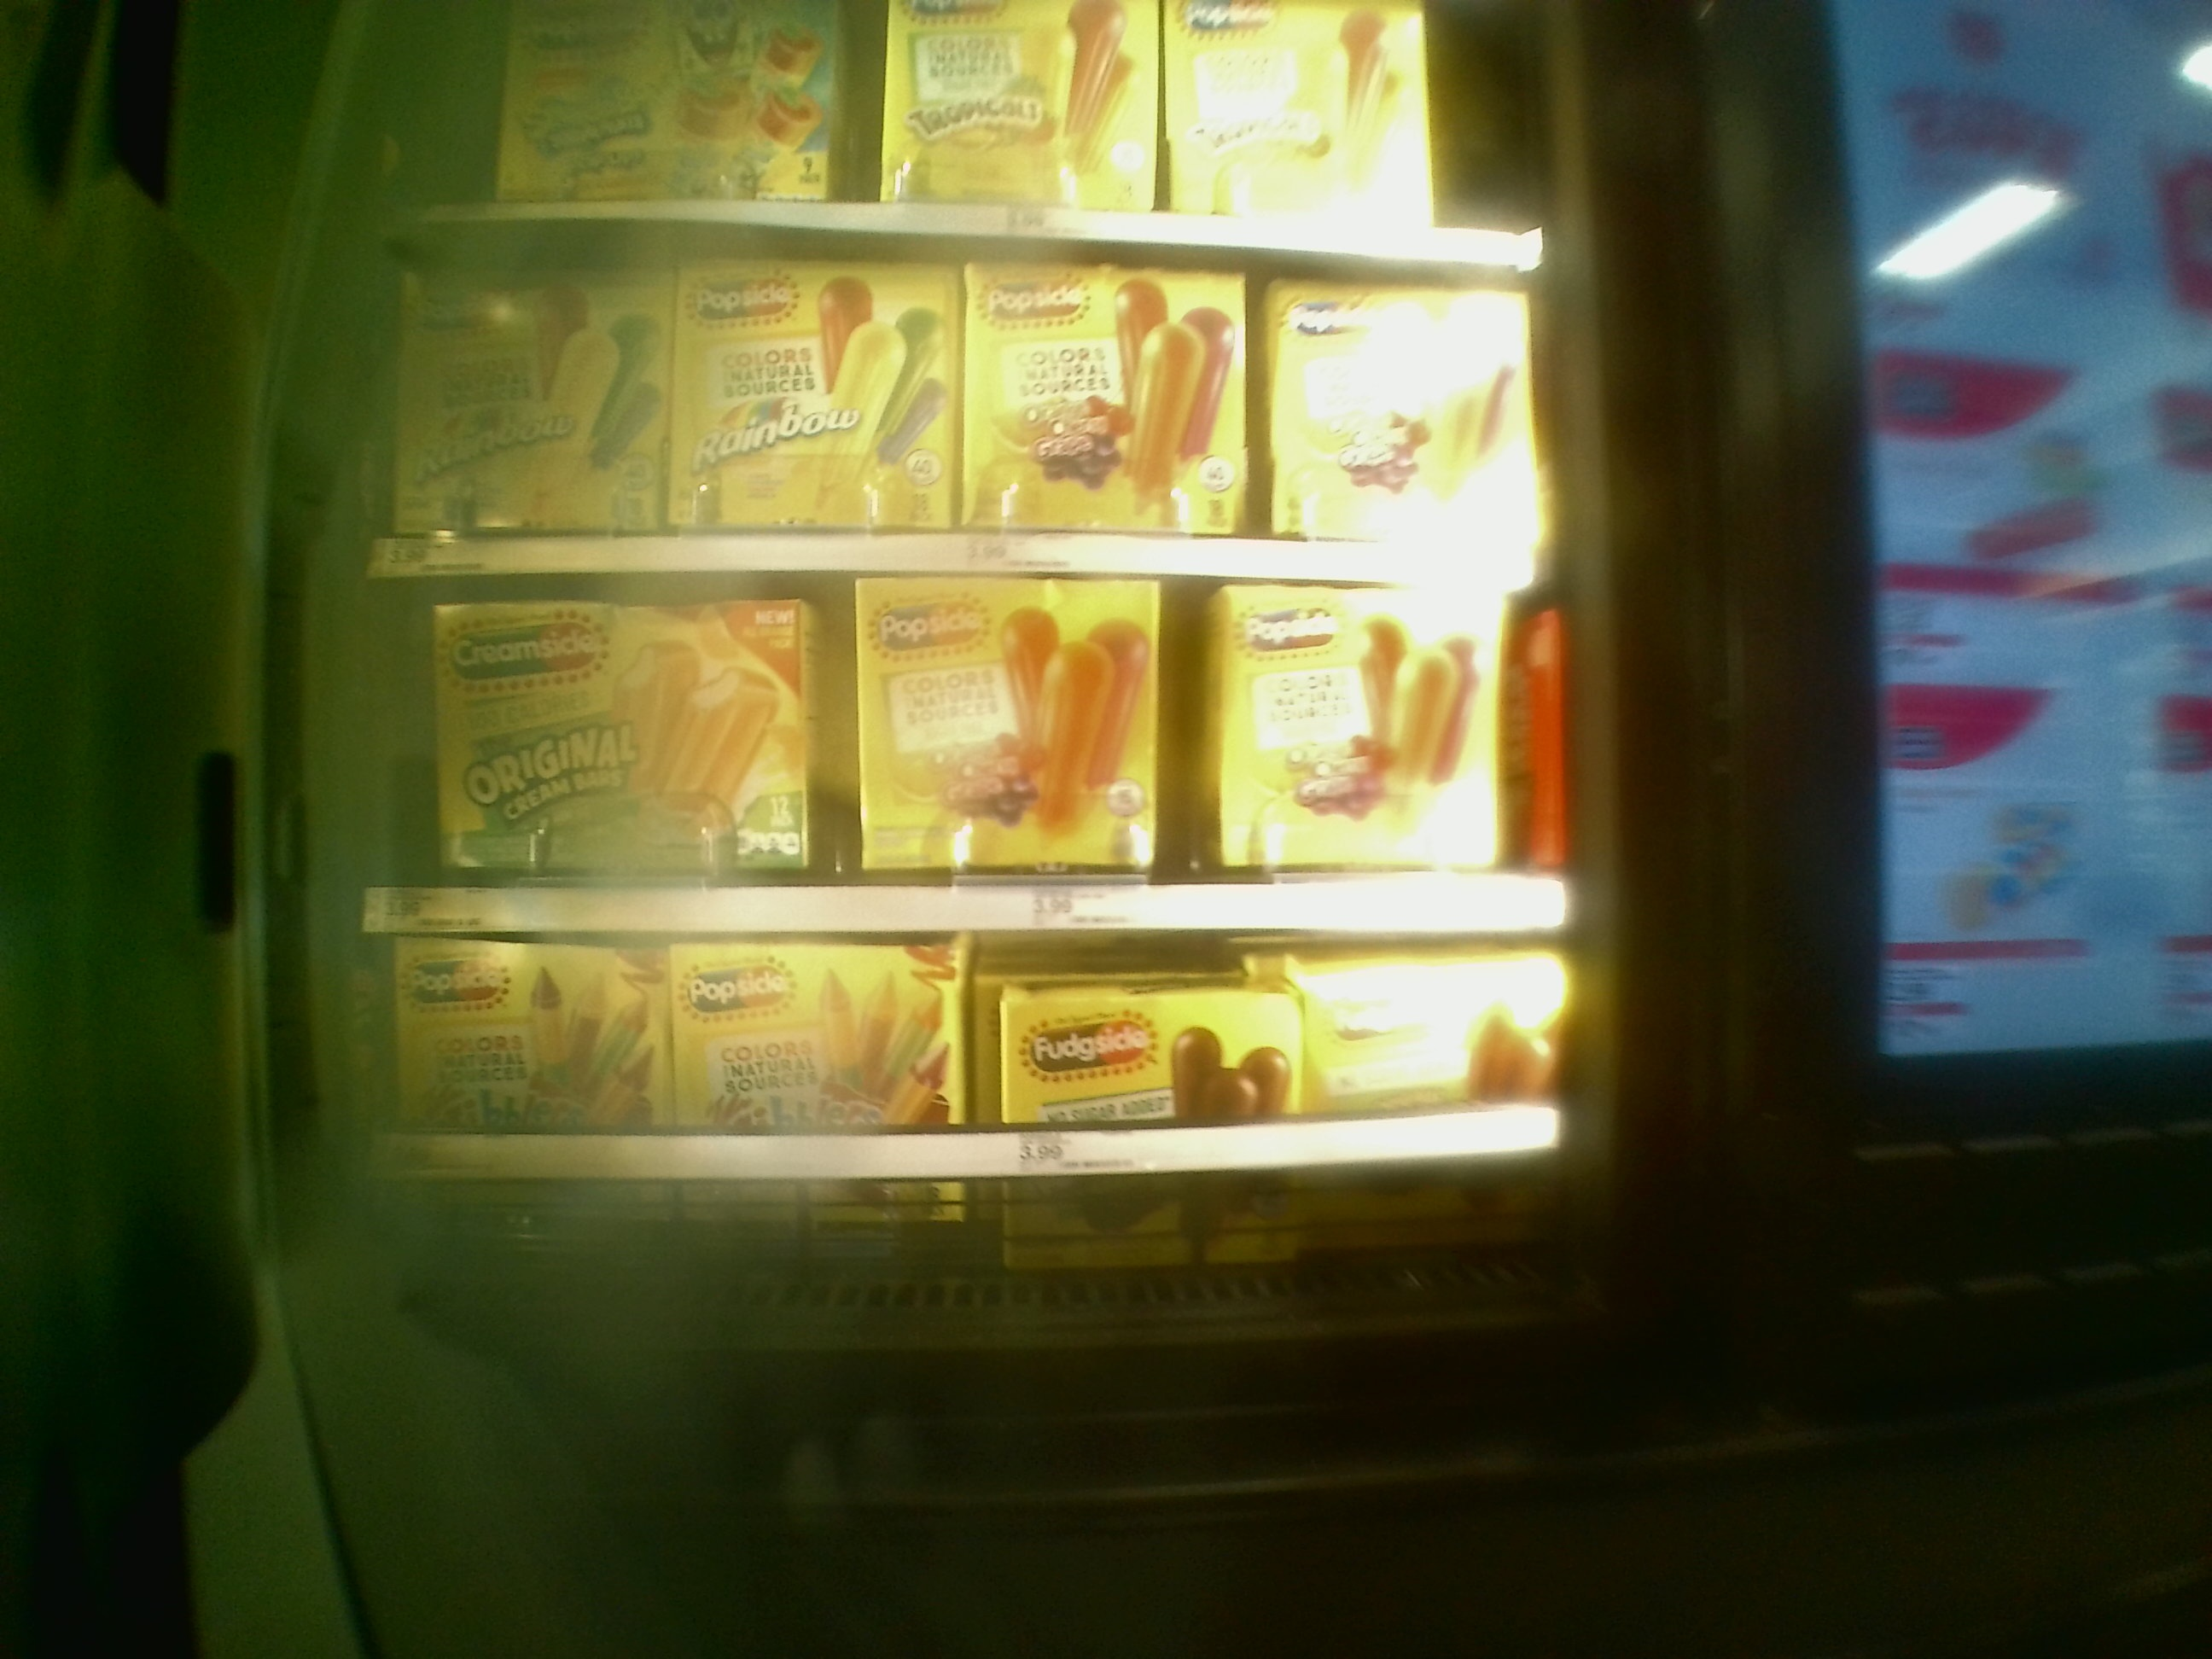frozen-food-shelf: (361, 932, 1615, 1183)
